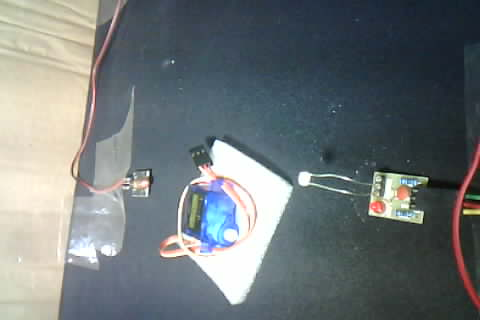motor: (158, 135, 275, 288)
